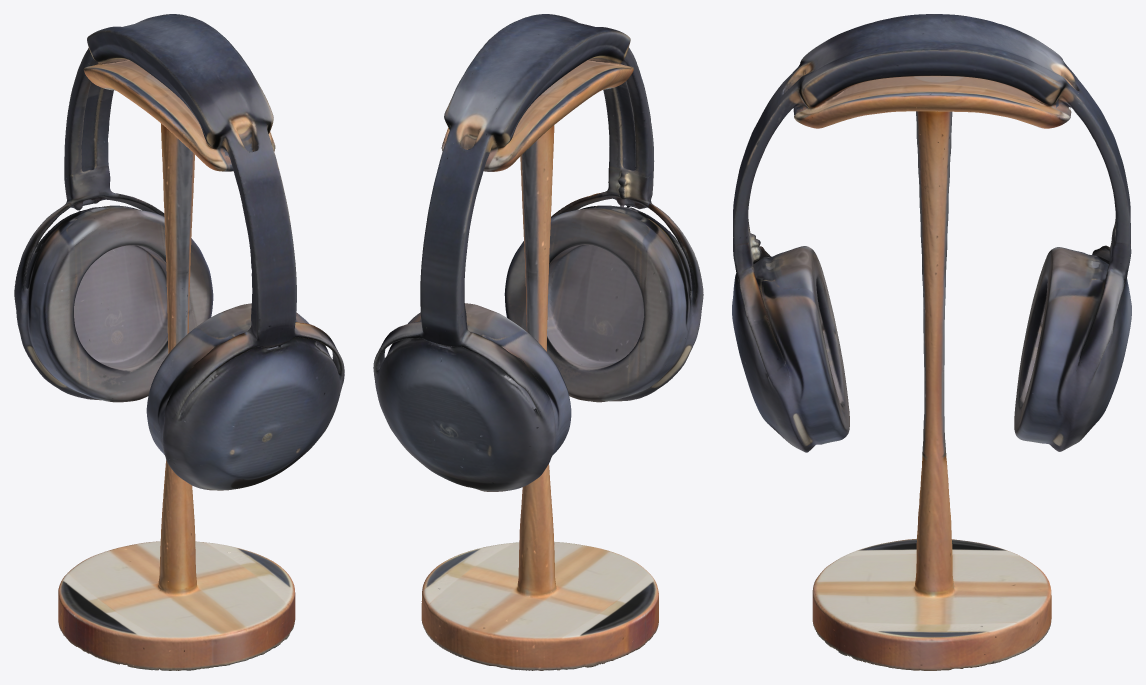
The model's file is JBL-headphones.glb.
3 views of the same model, side by side, from view 1: azimuth 30°, elevation 25°; view 2: azimuth 150°, elevation 25°; view 3: azimuth 270°, elevation 25° (orthographic).
Size of the model in its own units: 0.7403 by 2.01 by 1.23.
1 material, 1 textured.
